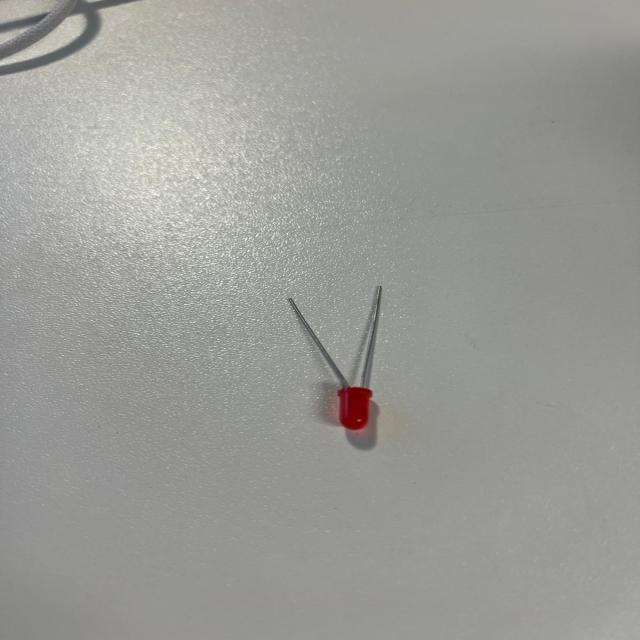REDLed: (269, 289, 427, 440)
